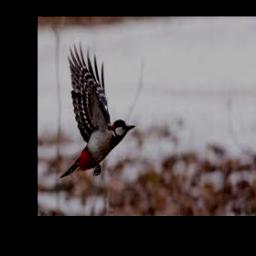Woodpecker: (60, 41, 135, 180)
